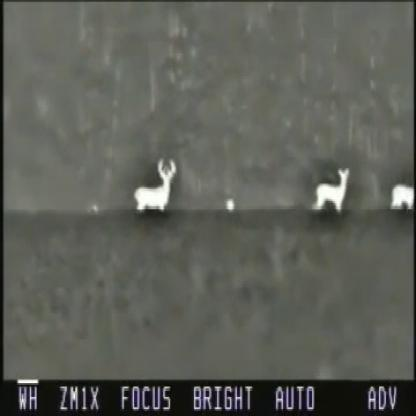rehkitze: (128, 157, 177, 218), (313, 168, 350, 214), (388, 180, 416, 214)
